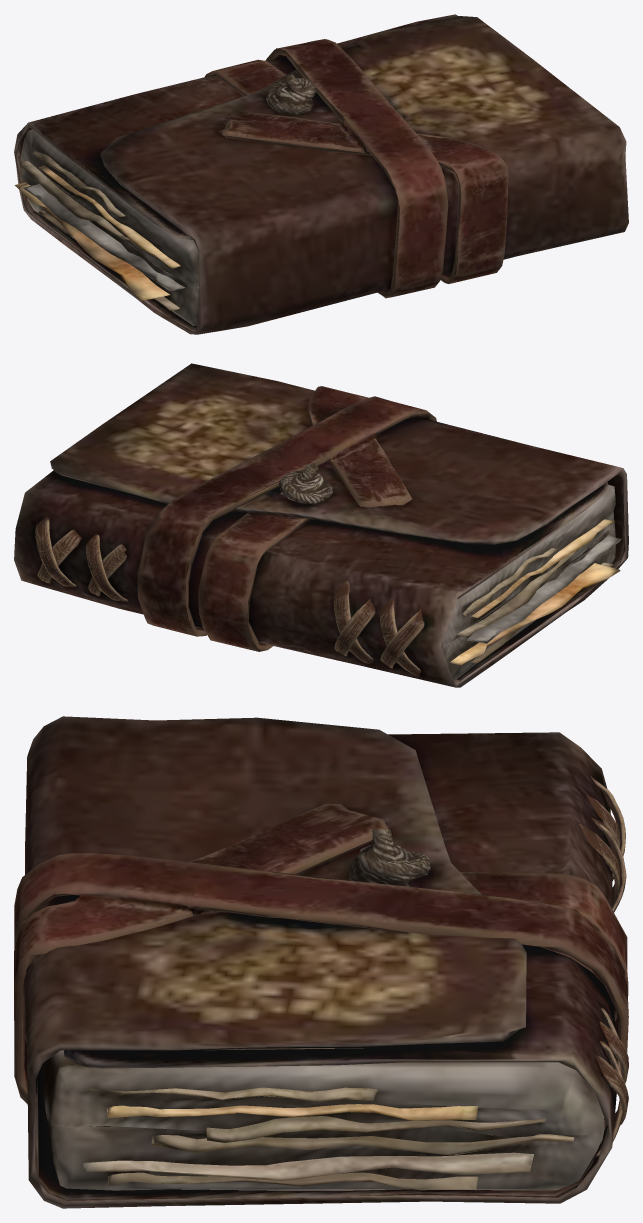
Rendered from journal.glb.
3 renders of one model, top to bottom at view 1: azimuth 30°, elevation 25°; view 2: azimuth 150°, elevation 25°; view 3: azimuth 270°, elevation 25°, orthographic. The views are drawn at different scales.
Visible parts, largest first — view 1: g, g.001, g.002, g.004, g.009, g.023, g.013, g.008, g.005; view 2: g, g.001, g.002, g.004, g.009, g.023, g.013, g.008, g.018, g.020, g.017, g.019 (+5 smaller); view 3: g, g.001, g.002, g.010, g.003, g.007, g.014, g.011, g.023, g.006, g.021, g.020 (+1 smaller).
Part boxes in pixels (x1=…): g: x1=14, y1=14, x2=628, y2=334; g.001: x1=205, y1=39, x2=508, y2=298; g.002: x1=20, y1=129, x2=199, y2=326; g.004: x1=22, y1=183, x2=184, y2=291; g.009: x1=14, y1=182, x2=198, y2=300; g.023: x1=266, y1=74, x2=316, y2=114; g.013: x1=19, y1=160, x2=135, y2=244; g.008: x1=38, y1=165, x2=180, y2=268; g.005: x1=32, y1=151, x2=125, y2=216; g: x1=14, y1=363, x2=628, y2=687; g.001: x1=137, y1=386, x2=436, y2=651; g.002: x1=441, y1=484, x2=615, y2=678; g.004: x1=457, y1=535, x2=621, y2=643; g.009: x1=450, y1=563, x2=620, y2=665; g.023: x1=278, y1=463, x2=332, y2=504; g.013: x1=457, y1=550, x2=577, y2=636; g.008: x1=471, y1=519, x2=614, y2=617; g.018: x1=380, y1=609, x2=424, y2=668; g.020: x1=35, y1=517, x2=76, y2=586; g.017: x1=334, y1=599, x2=375, y2=656; g.019: x1=85, y1=534, x2=128, y2=601; g: x1=23, y1=716, x2=616, y2=1208; g.001: x1=14, y1=804, x2=628, y2=1103; g.002: x1=43, y1=1050, x2=604, y2=1190; g.010: x1=83, y1=1152, x2=533, y2=1180; g.003: x1=151, y1=1134, x2=574, y2=1154; g.007: x1=107, y1=1104, x2=478, y2=1120; g.014: x1=206, y1=1116, x2=545, y2=1142; g.011: x1=108, y1=1172, x2=478, y2=1190; g.023: x1=349, y1=829, x2=430, y2=886; g.006: x1=90, y1=1087, x2=379, y2=1101; g.021: x1=579, y1=824, x2=619, y2=905; g.020: x1=595, y1=1054, x2=628, y2=1130.
Size of the model in its own units: 0.3 by 0.0853 by 0.2156.
Materials: 1 (1 with a texture image).
